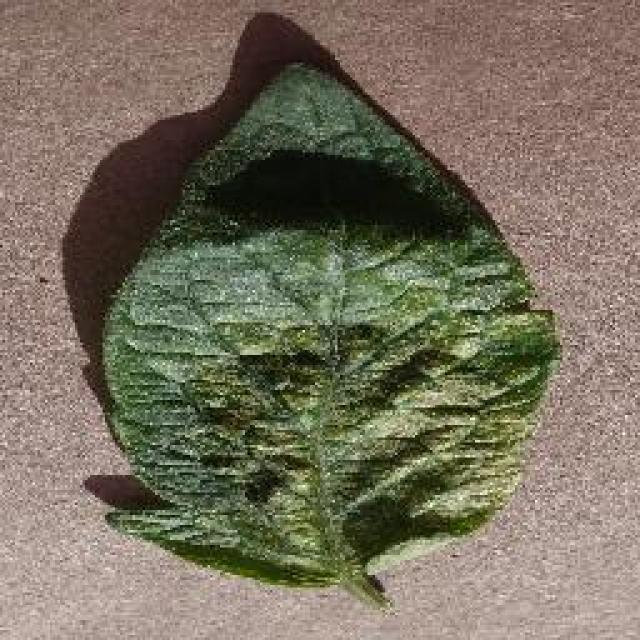Tomato spider mites leaf: (100, 56, 560, 586)
